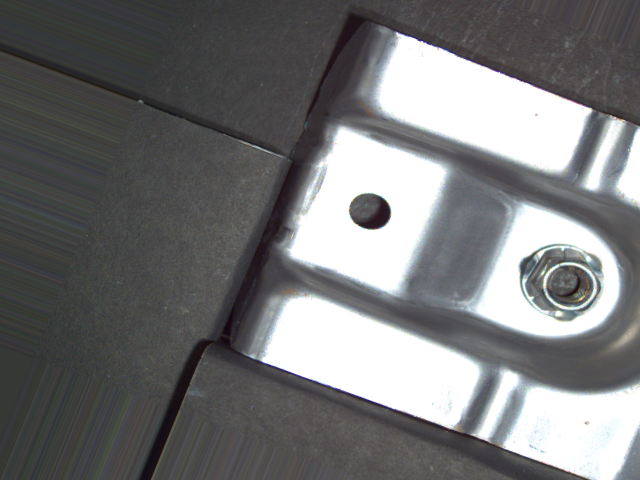good: (518, 236, 611, 324)
